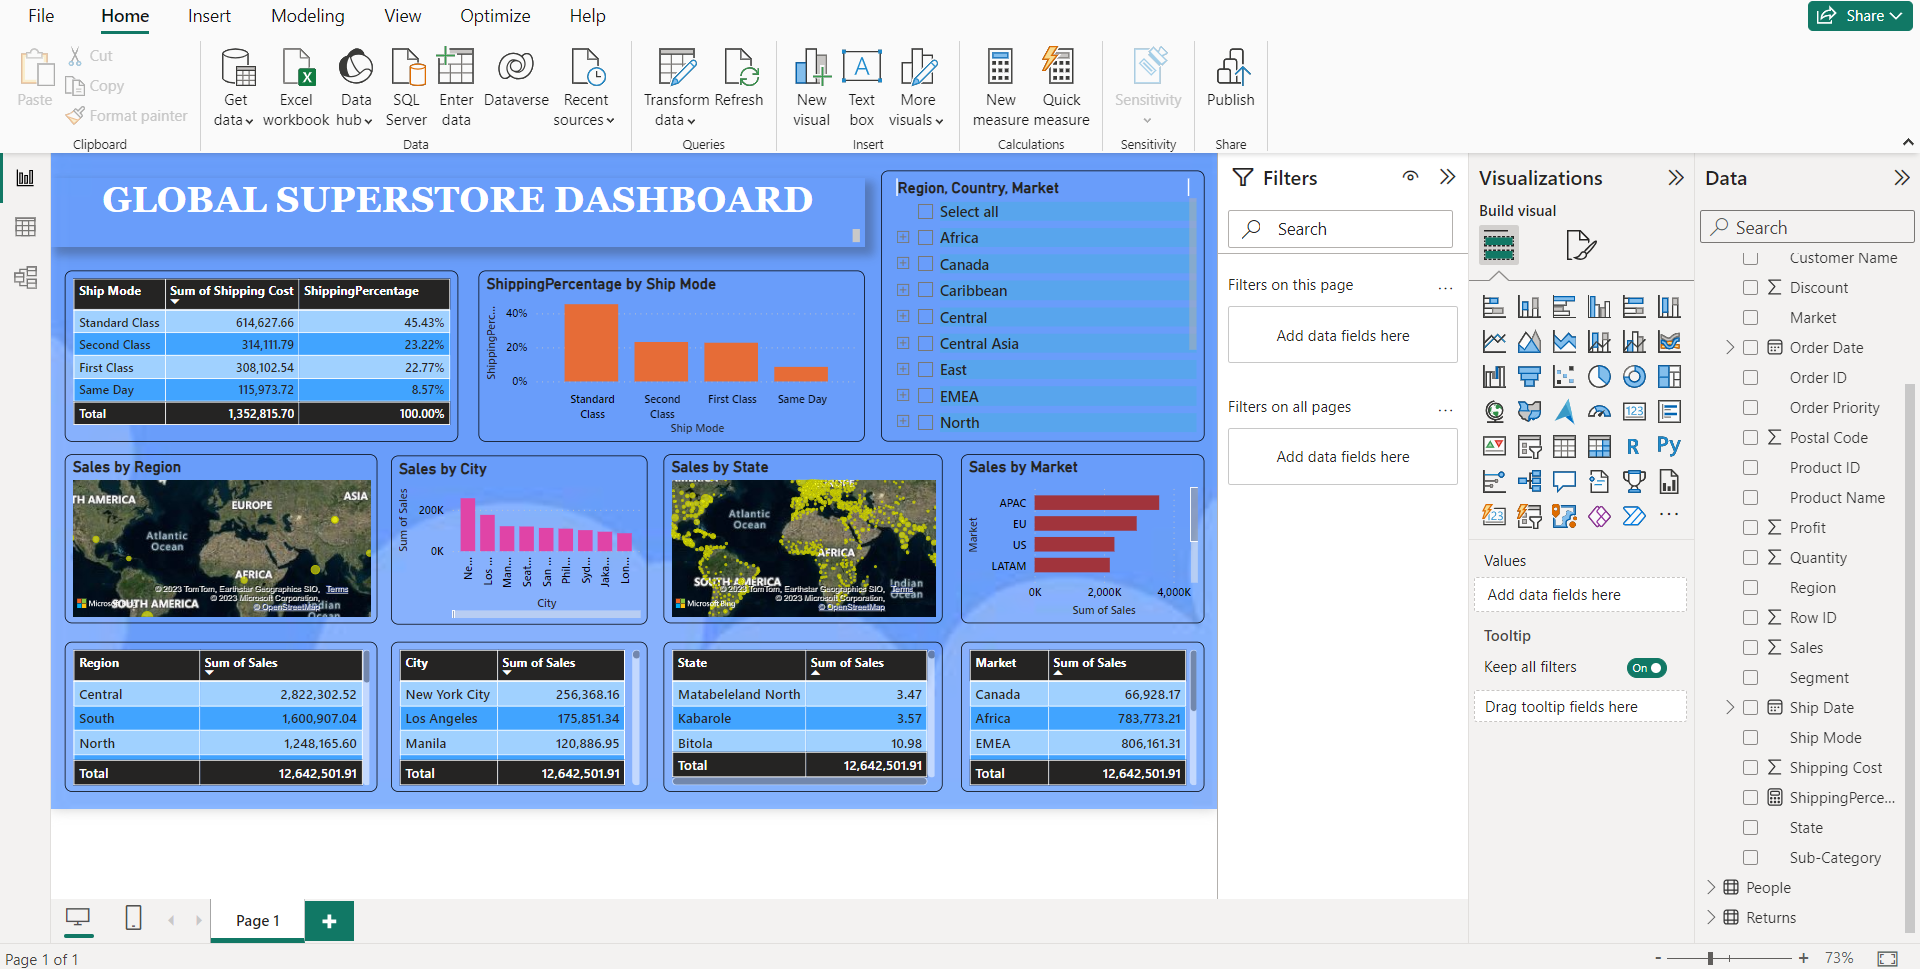

Layout of this report page (visuals, bound fields, positions):
{"tool":"powerbi","page":{"name":"Page 1","canvas":[1280,720],"ordinal":0},"visuals":[{"type":"slicer","fields":{"Values":["Orders.Region","Orders.Country","Orders.Market"]},"box":[911.2,19.2,355.4,297.8],"z":0},{"type":"columnChart","title":"Sales by City","fields":{"Category":["Orders.City"],"Y":["Sum(Orders.Sales)"]},"box":[373.2,332.1,281.3,185.2],"z":1000},{"type":"barChart","title":"Sales by Market","fields":{"Y":["Sum(Orders.Sales)"],"Category":["Orders.Market"]},"box":[999,330.7,267.6,185.2],"z":2000},{"type":"tableEx","fields":{"Values":["Orders.Ship Mode","Sum(Orders.Shipping Cost)","Orders.ShippingPercentage"]},"box":[15.1,129,432.2,188],"z":3000},{"type":"tableEx","fields":{"Values":["Orders.City","Sum(Orders.Sales)"]},"box":[373.2,536.5,281.3,164.7],"z":4000},{"type":"tableEx","fields":{"Values":["Orders.State","Sum(Orders.Sales)"]},"box":[672.4,536.5,306,164.7],"z":5000},{"type":"map","title":"Sales by State","fields":{"Category":["Orders.State"],"Size":["Sum(Orders.Sales)"]},"box":[672.4,330.7,306,185.2],"z":6000},{"type":"tableEx","fields":{"Values":["Orders.Region","Sum(Orders.Sales)"]},"box":[15.1,536.5,343.1,164.7],"z":7000},{"type":"tableEx","fields":{"Values":["Orders.Market","Sum(Orders.Sales)"]},"box":[999,536.5,267.6,164.7],"z":8000},{"type":"columnChart","fields":{"Category":["Orders.Ship Mode"],"Y":["Orders.ShippingPercentage"]},"box":[469.3,129,424,188],"z":9000},{"type":"map","title":"Sales by Region","fields":{"Size":["Sum(Orders.Sales)"],"Category":["Orders.Region"]},"box":[15.1,330.7,343.1,185.2],"z":10000},{"type":"textbox","title":"GLOBAL SUPERSTORE DASHBOARD","box":[0,27,893.3,75.5],"z":11000}]}

Visuals, with their boxes on the page's 1280x720 design canvas (x1, y1, x2, y2). These are canvas units, not pixel positions in the 1920x969 screenshot, which may show the page scaled, cropped or inside an application window:
slicer - Orders.Region x Orders.Country: 911 19 1267 317
"Sales by City" columnChart: 373 332 654 517
"Sales by Market" barChart: 999 331 1267 516
tableEx - Orders.Ship Mode x Sum(Orders.Shipping Cost): 15 129 447 317
tableEx - Orders.City x Sum(Orders.Sales): 373 536 654 701
tableEx - Orders.State x Sum(Orders.Sales): 672 536 978 701
"Sales by State" map: 672 331 978 516
tableEx - Orders.Region x Sum(Orders.Sales): 15 536 358 701
tableEx - Orders.Market x Sum(Orders.Sales): 999 536 1267 701
columnChart - Orders.Ship Mode x Orders.ShippingPercentage: 469 129 893 317
"Sales by Region" map: 15 331 358 516
"GLOBAL SUPERSTORE DASHBOARD" textbox: 0 27 893 102
